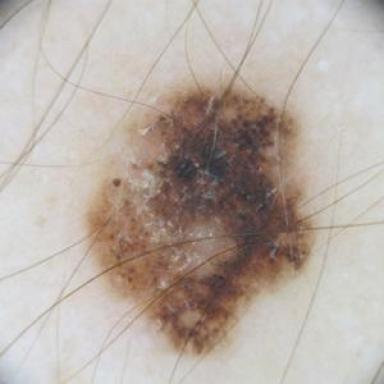Melanoma: (89, 84, 314, 357)
